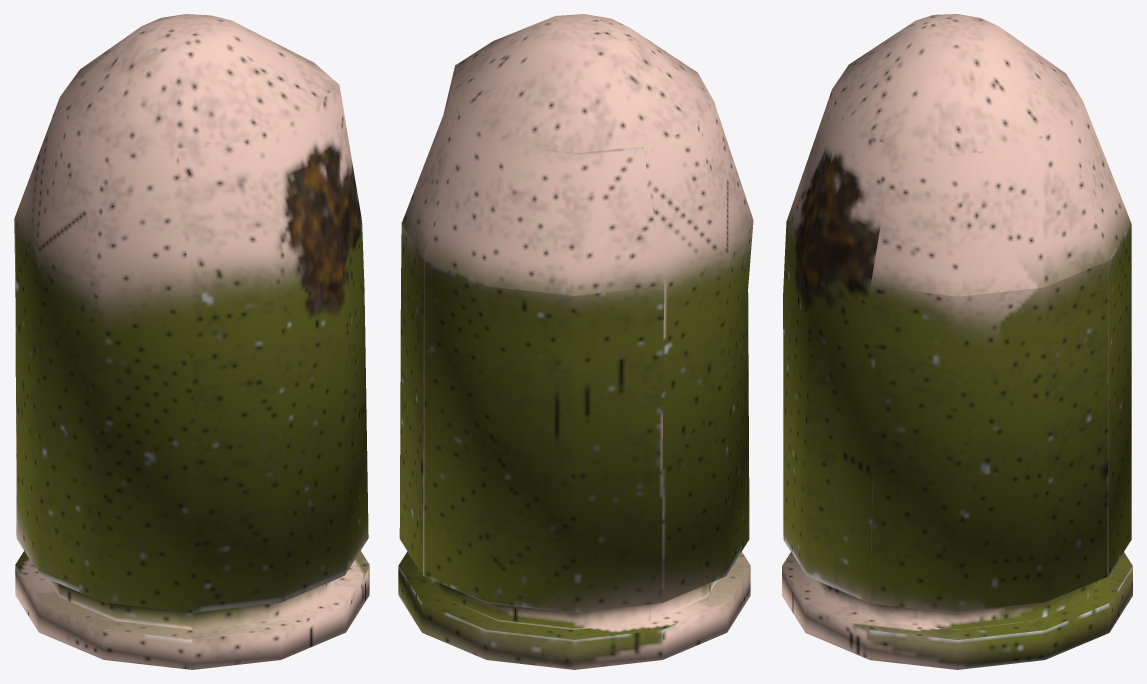
File: mermi.fbx
3 renders of one model, left to right at view 1: azimuth 30°, elevation 25°; view 2: azimuth 150°, elevation 25°; view 3: azimuth 270°, elevation 25°, orthographic.
Parts seen in each view (by area): view 1: Cylinder; view 2: Cylinder; view 3: Cylinder.
Part boxes in pixels (box(x1,y1,x2,y2)): Cylinder: box(14, 14, 369, 669); Cylinder: box(398, 14, 753, 669); Cylinder: box(782, 14, 1132, 669).
Bounding box in the file's own units: 205 × 361 × 202.
